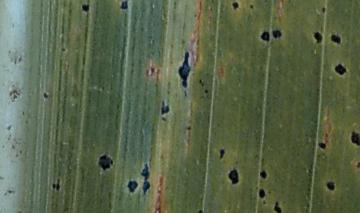tarspot: (179, 53, 191, 88), (140, 164, 150, 193), (97, 154, 114, 170), (227, 168, 239, 184), (350, 131, 360, 148), (126, 179, 138, 193), (333, 63, 347, 75), (312, 31, 324, 44), (160, 101, 170, 115), (259, 30, 270, 42), (325, 181, 336, 192), (271, 28, 282, 39), (330, 34, 341, 45), (274, 201, 283, 213), (81, 3, 90, 13), (119, 1, 129, 10), (230, 1, 239, 11), (258, 188, 266, 199), (260, 169, 268, 179), (219, 149, 226, 160), (318, 142, 327, 150), (51, 183, 60, 190), (42, 91, 49, 99), (198, 78, 204, 87), (248, 3, 255, 10), (322, 6, 327, 15), (196, 208, 204, 213), (61, 47, 67, 53), (186, 126, 192, 131), (262, 200, 268, 205), (356, 162, 360, 169), (204, 89, 209, 94)
